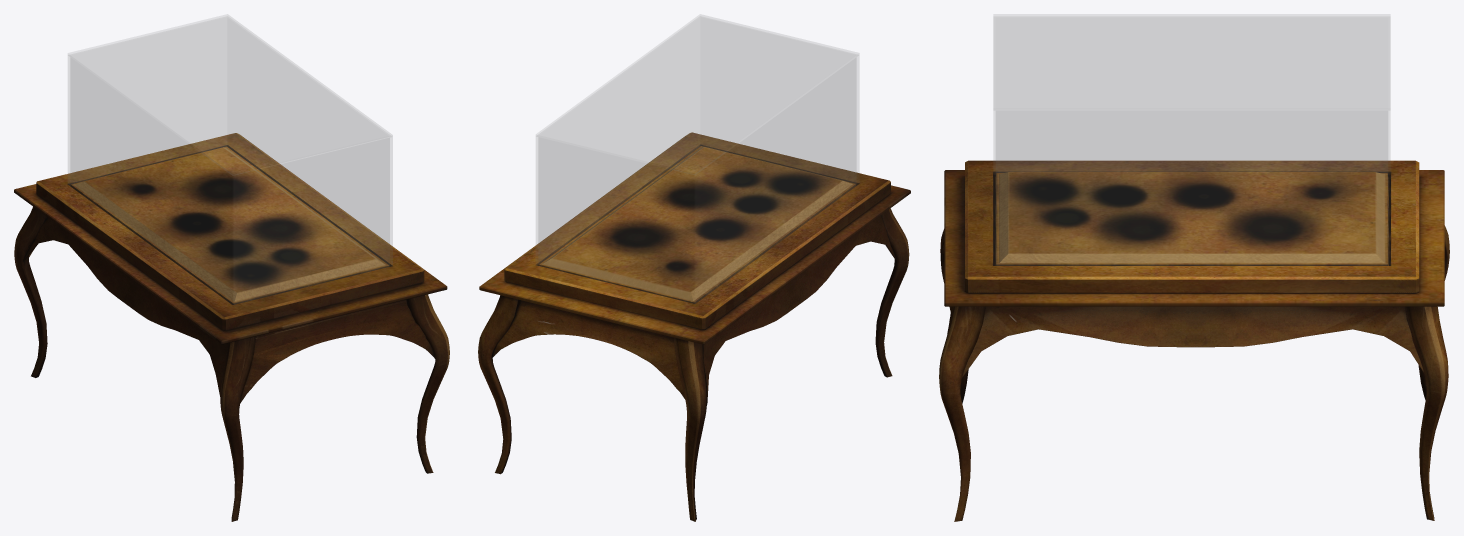
File: Museum_Displaytable_02.FBX
3 renders of one model, left to right at view 1: azimuth 30°, elevation 25°; view 2: azimuth 150°, elevation 25°; view 3: azimuth 270°, elevation 25°, orthographic. The views are drawn at different scales.
Parts seen in each view (by area): view 1: Museum_Displaytable_02; view 2: Museum_Displaytable_02; view 3: Museum_Displaytable_02.
Boxes of the visible parts, left/top/right/bottom form: Museum_Displaytable_02: left=14, top=14, right=449, bottom=521; Museum_Displaytable_02: left=478, top=14, right=910, bottom=521; Museum_Displaytable_02: left=939, top=14, right=1449, bottom=521.
Size of the model in its own units: 837 by 1166 by 1352.
2 materials, 1 textured.
